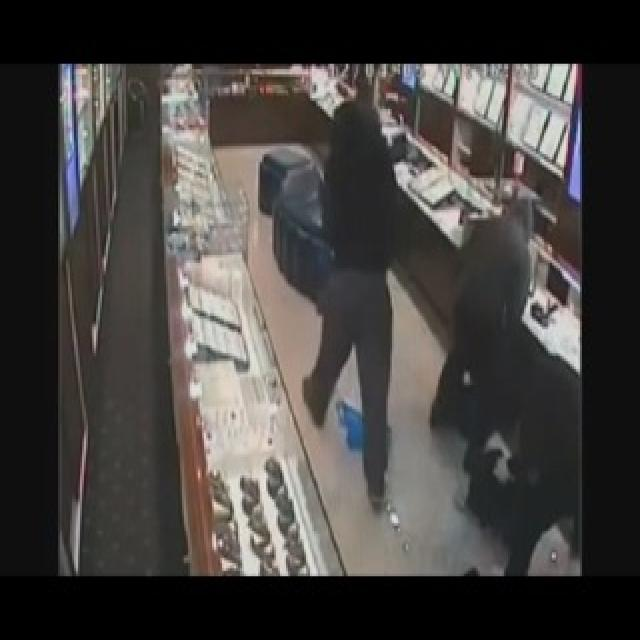thief: (452, 203, 580, 546), (306, 86, 413, 326)
